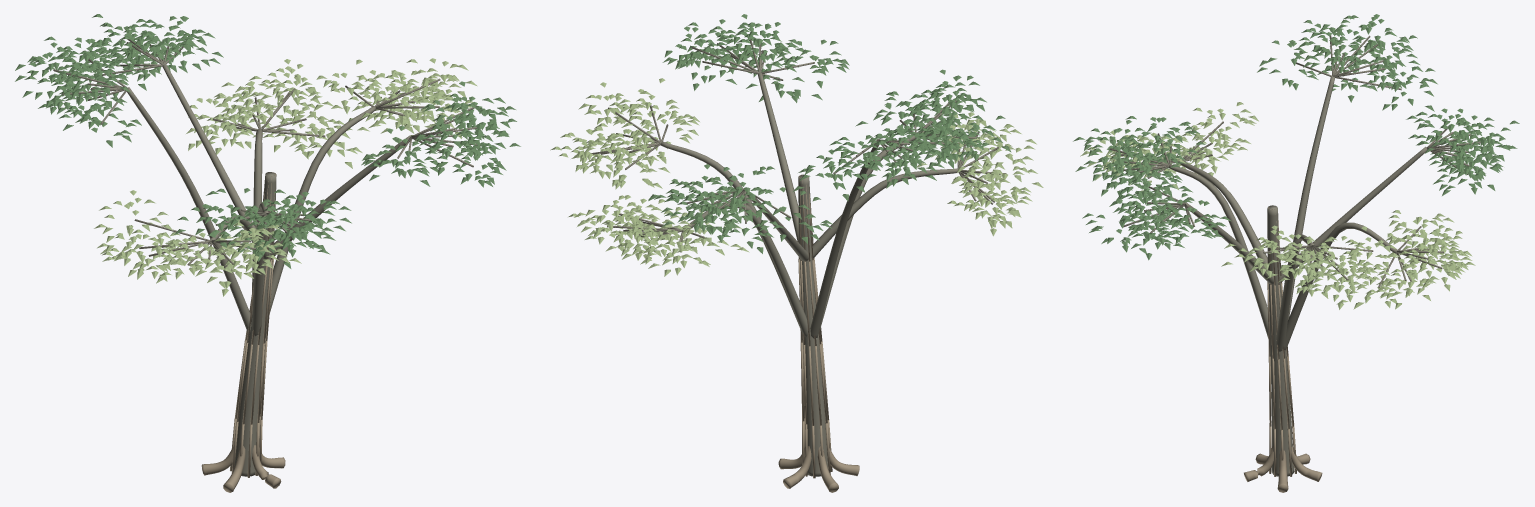
File: grove-grove-tree-2.glb
The picture shows the model from 3 angles, left to right: view 1: azimuth 30°, elevation 25°; view 2: azimuth 150°, elevation 25°; view 3: azimuth 270°, elevation 25°; orthographic projection. The views are drawn at different scales.
Parts seen in each view (by area): view 1: grove-grove-tree-2; view 2: grove-grove-tree-2; view 3: grove-grove-tree-2.
Part boxes in pixels (<box>): grove-grove-tree-2: <box>15,14,520,492</box>; grove-grove-tree-2: <box>550,14,1043,492</box>; grove-grove-tree-2: <box>1073,14,1519,492</box>.
Size of the model in its own units: 8.62 by 8.3 by 8.6.
